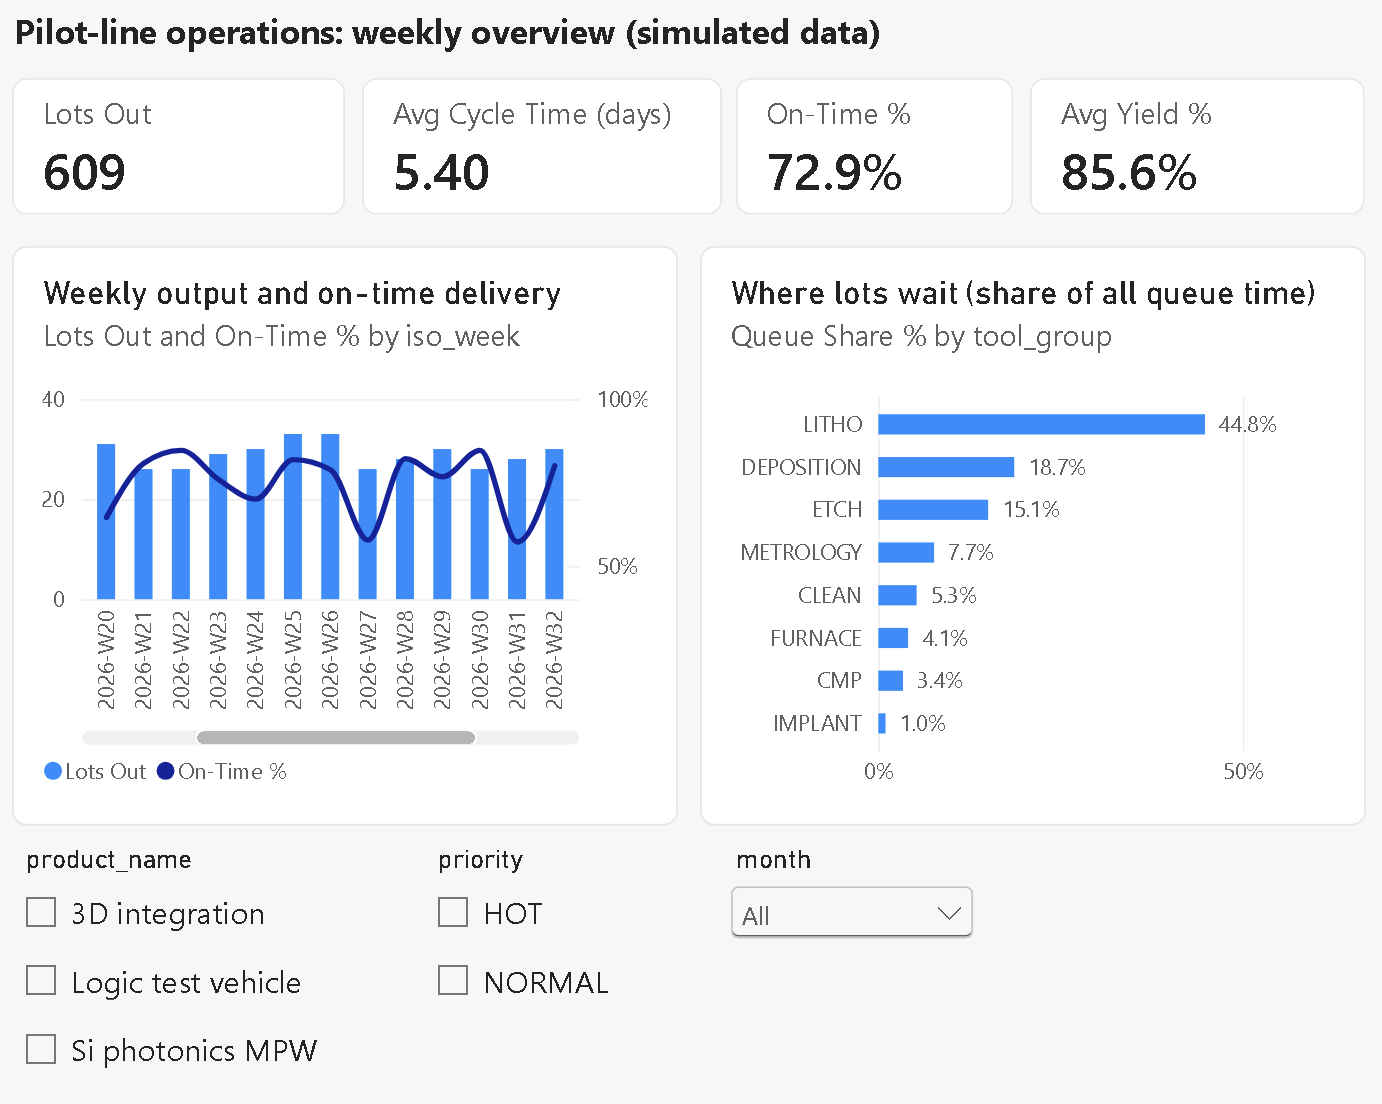

Layout of this report page (visuals, bound fields, positions):
{"tool":"powerbi","page":{"name":"Line Overview","canvas":[1920,1080],"ordinal":0},"visuals":[{"type":"cardVisual","fields":{"Data":["_Measures.Lots Out"]},"box":[7.8,44.4,185.6,76.7],"z":0},{"type":"cardVisual","fields":{"Data":["_Measures.On-Time %"]},"box":[410,44.4,154.4,76.7],"z":1},{"type":"cardVisual","fields":{"Data":["_Measures.Avg Cycle Time (days)"]},"box":[201.9,44.4,200,76.7],"z":3},{"type":"cardVisual","fields":{"Data":["_Measures.Avg Yield %"]},"box":[573.3,44.4,186.7,76.7],"z":4},{"type":"lineClusteredColumnComboChart","title":"Weekly output and on-time delivery","fields":{"Category":["dim_date.iso_week"],"Y":["_Measures.Lots Out"],"Y2":["_Measures.On-Time %"]},"box":[7.8,137.8,370,322.2],"z":5},{"type":"clusteredBarChart","title":"Where lots wait (share of all queue time)","fields":{"Category":["dim_step.tool_group"],"Y":["_Measures.Queue Share %"]},"box":[390,137.8,370,322],"z":6},{"type":"slicer","fields":{"Values":["dim_product.product_name"]},"box":[7.8,470,193.3,140],"z":7},{"type":"slicer","fields":{"Values":["dim_lot.priority"]},"box":[236.7,470,131.1,106.7],"z":8},{"type":"slicer","fields":{"Values":["dim_date.month"]},"box":[402.2,470,144.4,70],"z":9},{"type":"textbox","box":[8.9,5.6,688.9,38.9],"z":10}]}

Visuals, with their boxes on the page's 1920x1080 design canvas (x1, y1, x2, y2). These are canvas units, not pixel positions in the 1382x1104 screenshot, which may show the page scaled, cropped or inside an application window:
cardVisual - _Measures.Lots Out: left=8, top=44, right=193, bottom=121
cardVisual - _Measures.On-Time %: left=410, top=44, right=564, bottom=121
cardVisual - _Measures.Avg Cycle Time (days): left=202, top=44, right=402, bottom=121
cardVisual - _Measures.Avg Yield %: left=573, top=44, right=760, bottom=121
"Weekly output and on-time delivery" lineClusteredColumnComboChart: left=8, top=138, right=378, bottom=460
"Where lots wait (share of all queue time)" clusteredBarChart: left=390, top=138, right=760, bottom=460
slicer - dim_product.product_name: left=8, top=470, right=201, bottom=610
slicer - dim_lot.priority: left=237, top=470, right=368, bottom=577
slicer - dim_date.month: left=402, top=470, right=547, bottom=540
textbox: left=9, top=6, right=698, bottom=44
